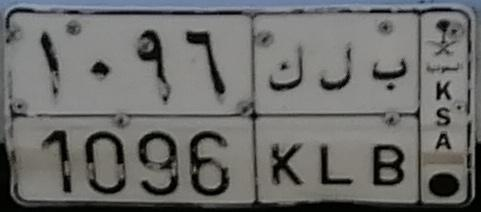0: (83, 57, 130, 196)
1: (40, 31, 74, 194)
6: (185, 27, 236, 197)
9: (135, 28, 180, 198)
B: (371, 58, 407, 187)
K: (267, 41, 306, 188)
L: (319, 40, 354, 186)
